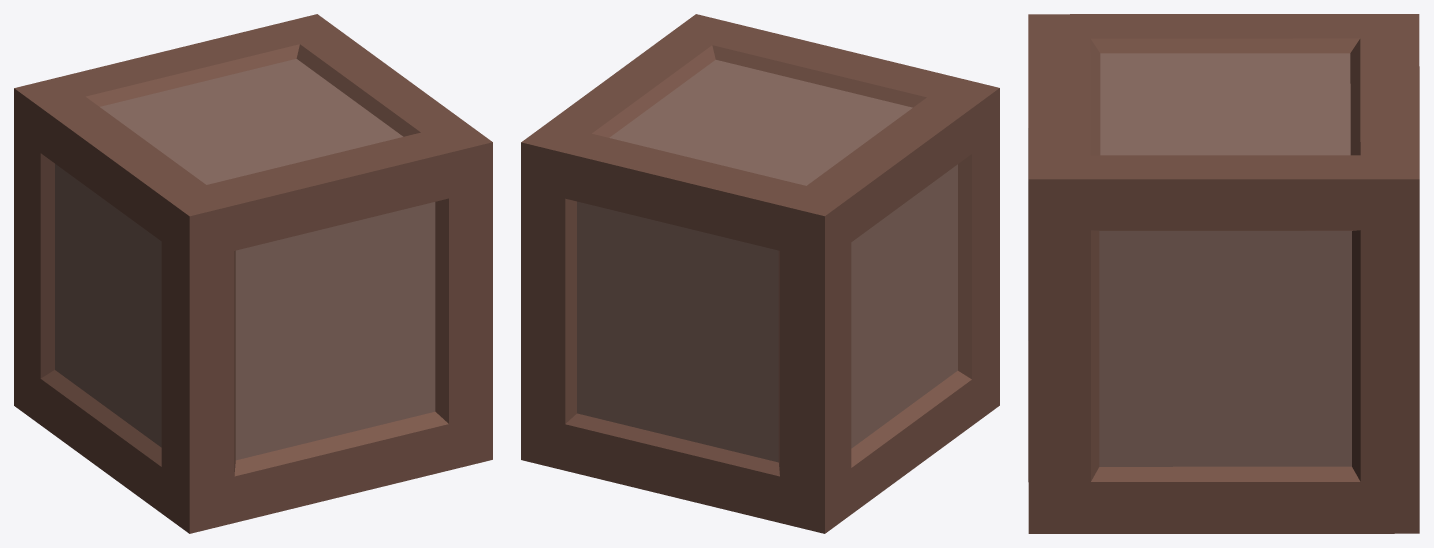
The model's file is props_019.glb.
The picture shows the model from 3 angles, left to right: view 1: azimuth 30°, elevation 25°; view 2: azimuth 150°, elevation 25°; view 3: azimuth 270°, elevation 25°; orthographic projection. The views are drawn at different scales.
Visible parts, largest first — view 1: props_019; view 2: props_019; view 3: props_019.
Boxes of the visible parts, <box> form: props_019: <box>14,14,492,533</box>; props_019: <box>521,14,999,533</box>; props_019: <box>1028,14,1419,533</box>.
Size of the model in its own units: 1.19 by 1.19 by 1.19.
Materials: 1 (1 with a texture image).
